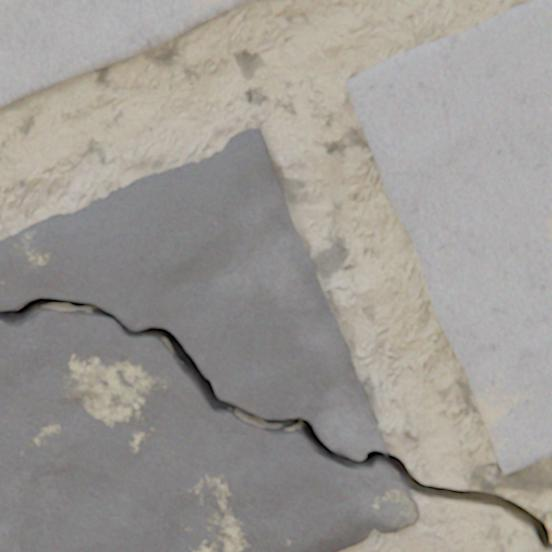brick: (346, 0, 551, 473), (0, 0, 260, 109)
broken_brick: (0, 129, 385, 459), (0, 309, 418, 551)
crack: (0, 297, 551, 551)
